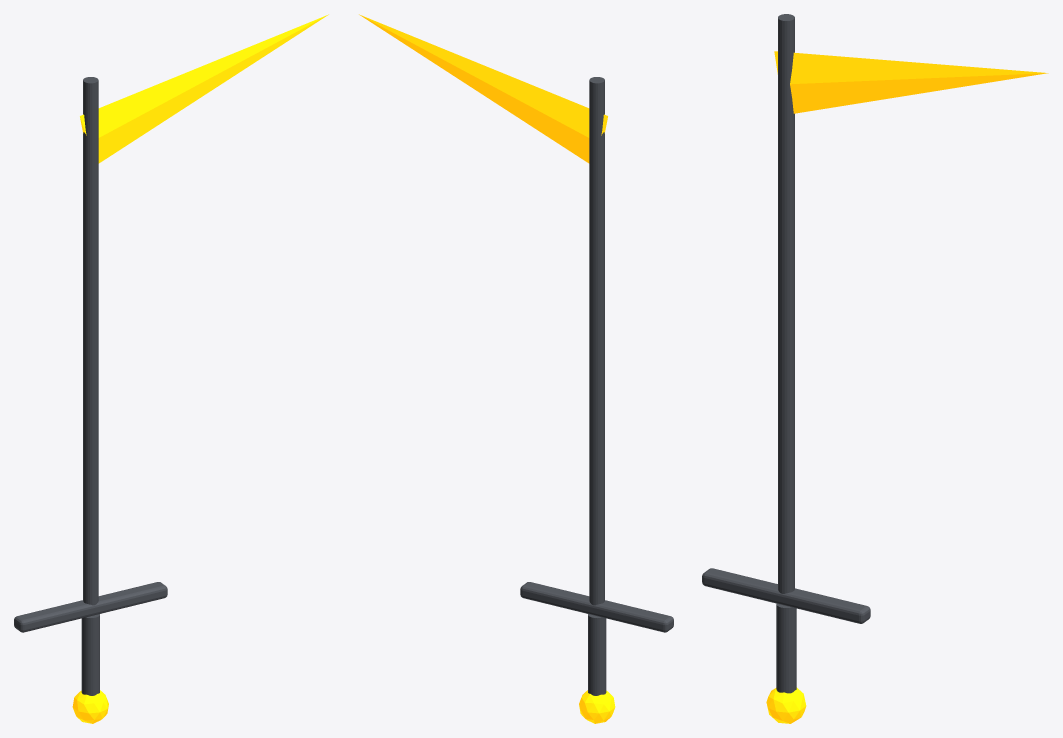
The model's file is ash_reaper_01_28f7.glb.
The picture shows the model from 3 angles, left to right: view 1: azimuth 30°, elevation 25°; view 2: azimuth 150°, elevation 25°; view 3: azimuth 330°, elevation 25°; orthographic projection. The views are drawn at different scales.
Visible parts, largest first — view 1: Cylinder; view 2: Cylinder; view 3: Cylinder.
Boxes of the visible parts, x1,y1,x2,y2 form: Cylinder: (14, 14, 328, 723); Cylinder: (359, 14, 673, 723); Cylinder: (702, 14, 1048, 723).
Bounding box in the file's own units: 0.9322 × 1.85 × 0.096.
